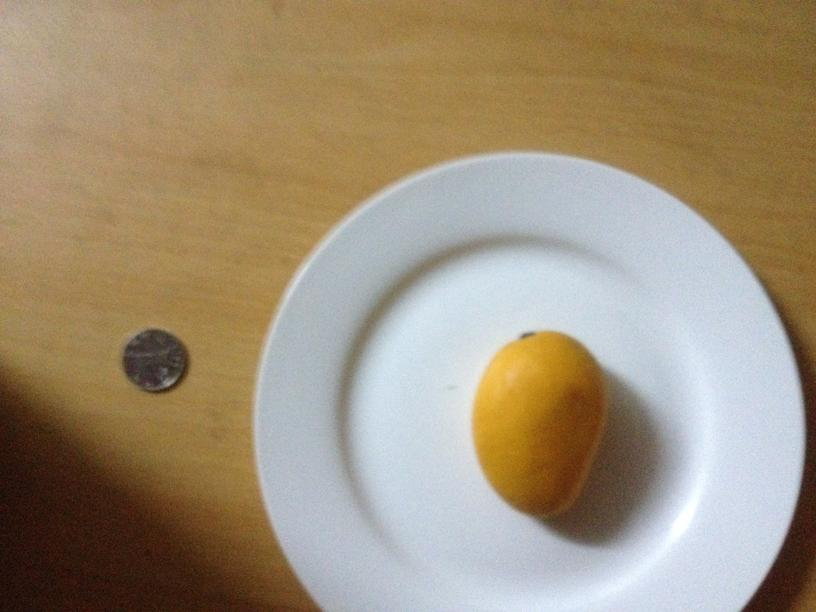coin: (119, 332, 186, 391)
mango: (471, 330, 607, 517)
